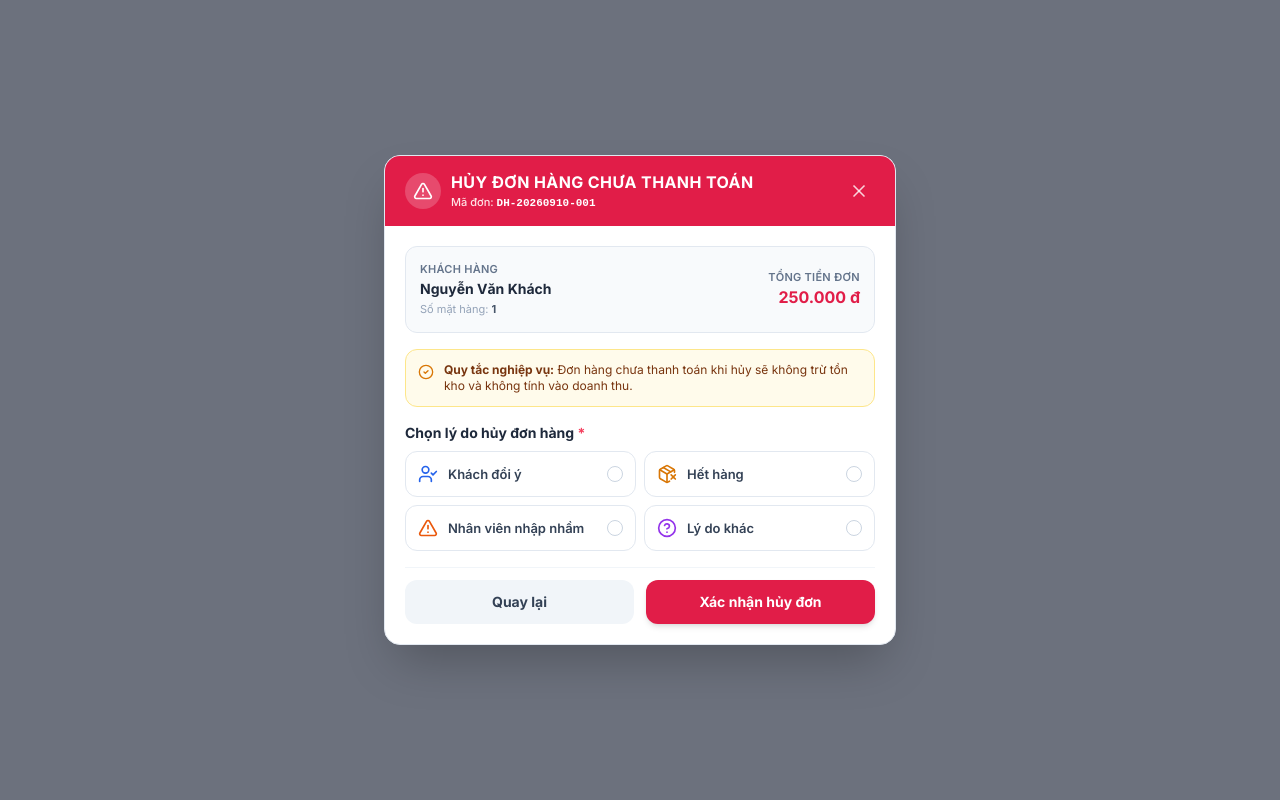
Test: NCL-03-CN-009: Hủy đơn chưa thanh toán kèm lý do › CancelOrderModal - Giao diện và Kiểm thử Nghiệp vụ › NCL-03-CN-009-TC-02: Chặn hủy khi chưa chọn lý do (Thiếu dữ liệu)
The image size is (1280, 800).
Step 1. Click the button "Xác nhận hủy đơn" → [760, 602], box [646,580,875,624]
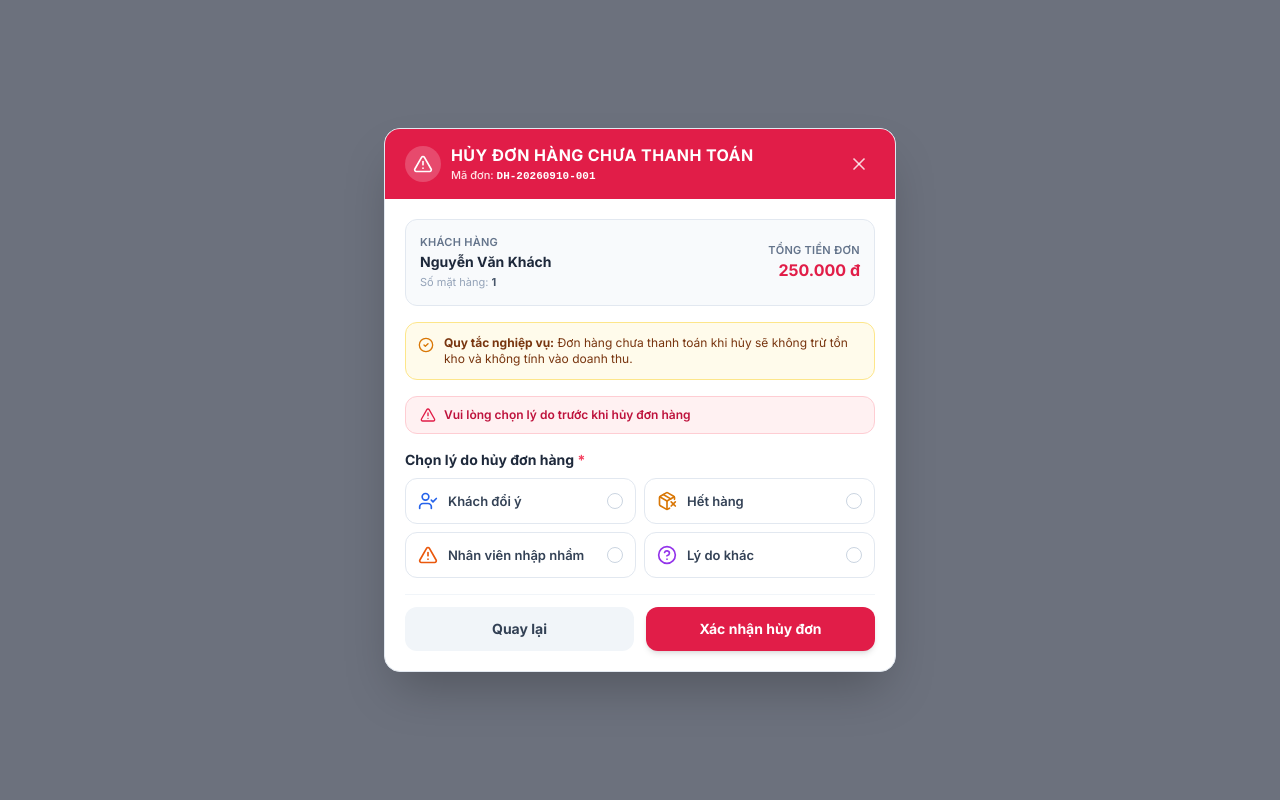
Expected: the text "Vui lòng chọn lý do trước khi hủy đơn hàng" is shown, [444,407,690,423]
